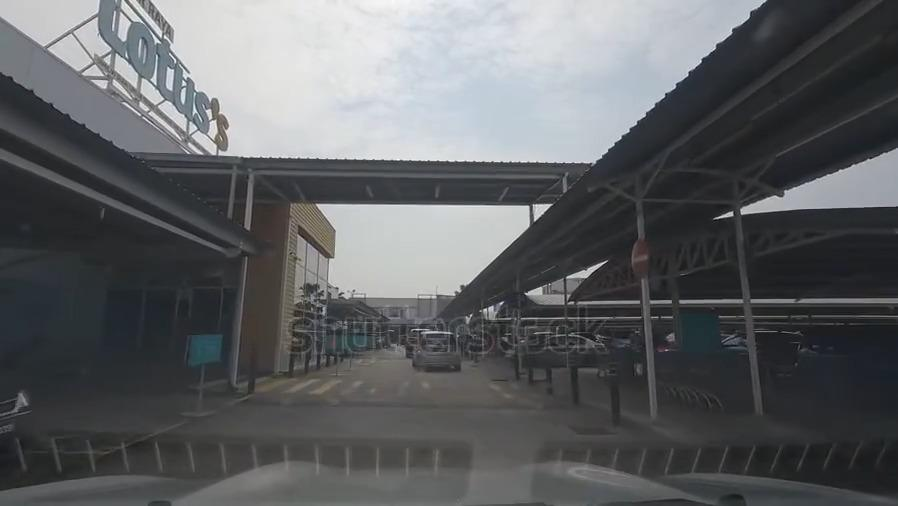car: (800, 323, 898, 403), (505, 333, 605, 373), (726, 327, 801, 370), (0, 376, 35, 451), (411, 328, 463, 370), (405, 326, 434, 358), (605, 326, 631, 349)
manhole: (566, 417, 615, 441)
pedestrian: (256, 370, 561, 414)
